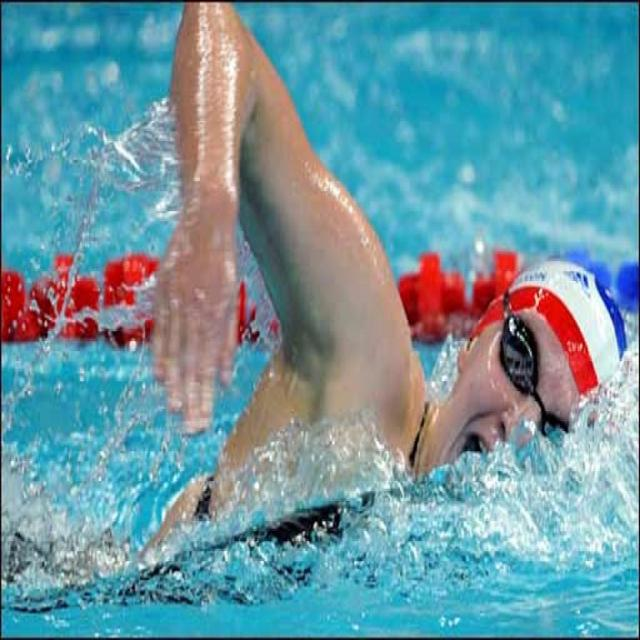nomask: (429, 318, 600, 529)
